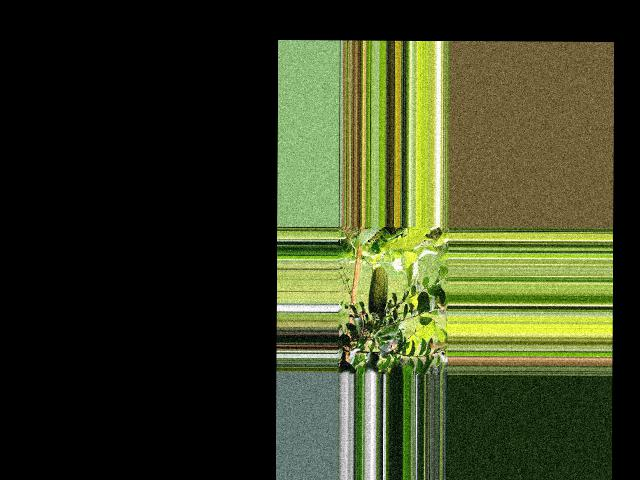cucumber: (367, 266, 387, 319)
